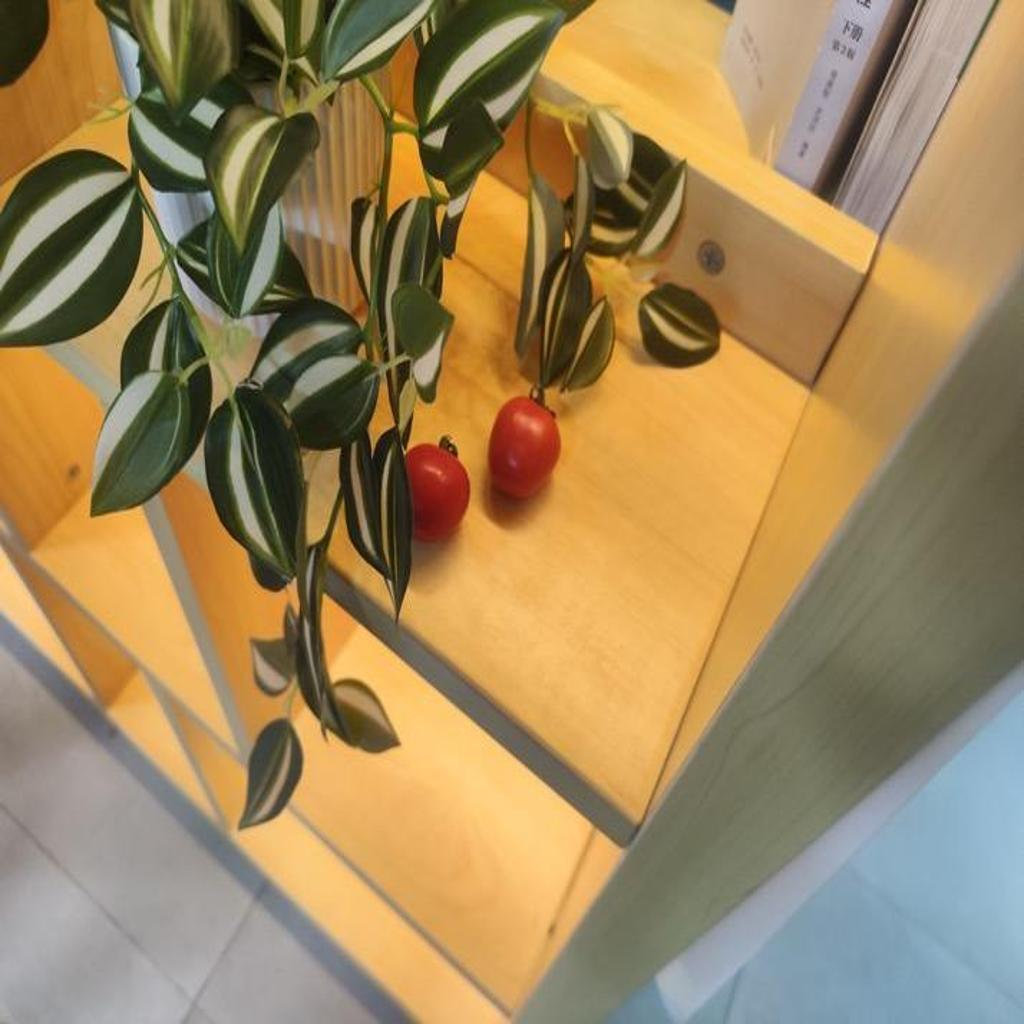tomato: (478, 394, 568, 499), (398, 440, 474, 552)
